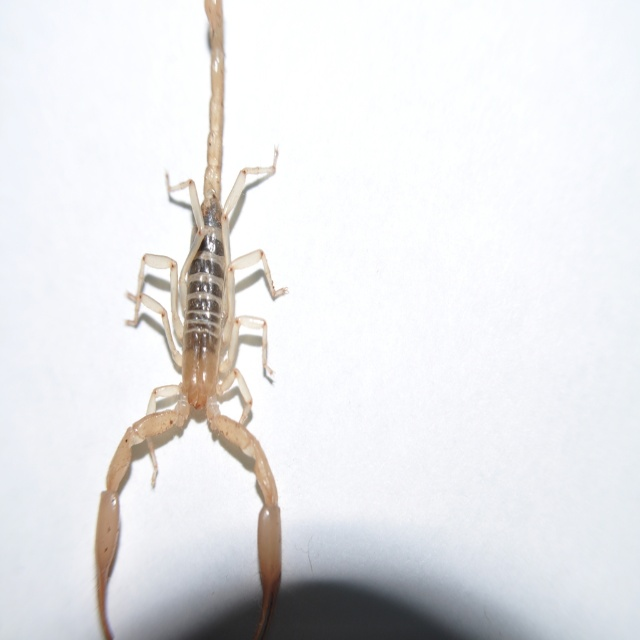Scorpion: (92, 0, 290, 639)
